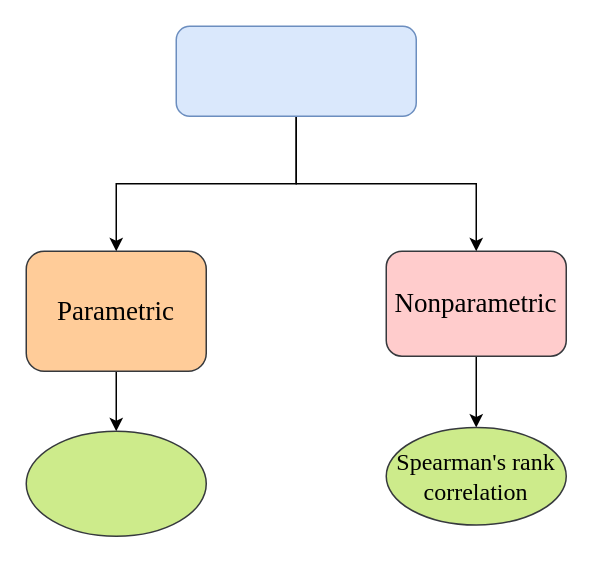
This 593x563 diagram has some shape labels left out. Each missing label, with the centre of its shape:
"2 quantitative" goes at pixel 295 70.
"Pearson correlation" goes at pixel 115 483.
